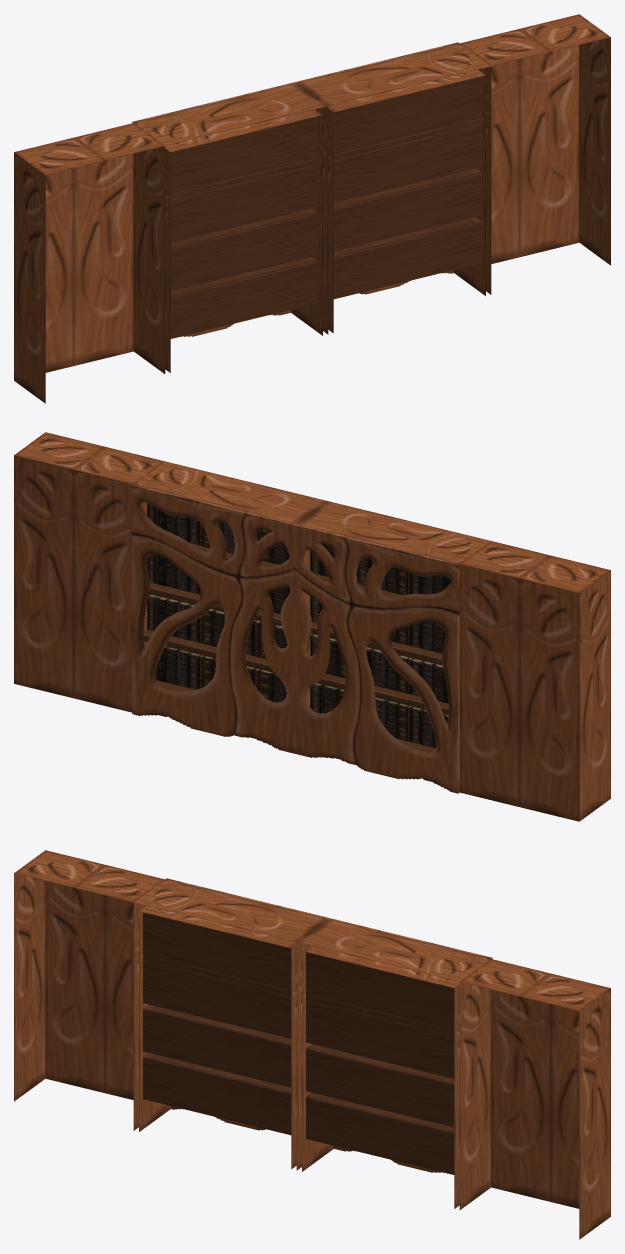
Rendered from EKH_GROTTO_PS_GR_BOOKCASE35__GX.fbx.
3 renders of one model, top to bottom at view 1: azimuth 30°, elevation 25°; view 2: azimuth 150°, elevation 25°; view 3: azimuth 330°, elevation 25°, orthographic.
Visible parts, largest first — view 1: EKH_GROTTO_PS_GR_BOOKCASE35__GX; view 2: EKH_GROTTO_PS_GR_BOOKCASE35__GX; view 3: EKH_GROTTO_PS_GR_BOOKCASE35__GX.
Part boxes in pixels (box(x1,y1,x2,y2)): EKH_GROTTO_PS_GR_BOOKCASE35__GX: box(14, 14, 610, 403); EKH_GROTTO_PS_GR_BOOKCASE35__GX: box(14, 432, 610, 821); EKH_GROTTO_PS_GR_BOOKCASE35__GX: box(14, 850, 610, 1239).
Bounding box in the file's own units: 54377 × 21000 × 5504.
Materials: 6 (6 with a texture image).
